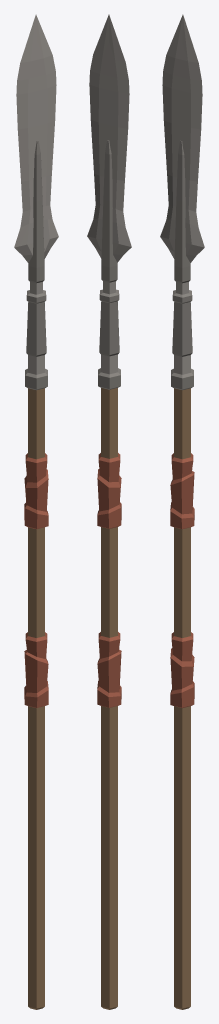
File: SM_pwe_medieval_spear_06.fbx
The picture shows the model from 3 angles, left to right: view 1: azimuth 30°, elevation 25°; view 2: azimuth 150°, elevation 25°; view 3: azimuth 330°, elevation 25°; orthographic projection.
Parts seen in each view (by area): view 1: SM_pwe_medieval_spear_06; view 2: SM_pwe_medieval_spear_06; view 3: SM_pwe_medieval_spear_06.
Part boxes in pixels (x1,y1,x2,y2): SM_pwe_medieval_spear_06: (14, 14, 58, 1009); SM_pwe_medieval_spear_06: (87, 14, 131, 1009); SM_pwe_medieval_spear_06: (160, 14, 204, 1009).
Bounding box in the file's own units: 11.65 × 247 × 5.9.
